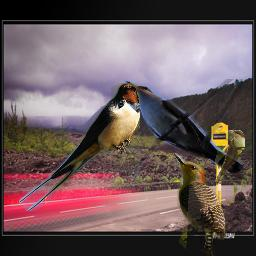Cuckoo: (123, 79, 243, 173), (215, 130, 245, 185)
Swallow: (19, 83, 140, 211)
Woodpecker: (173, 153, 226, 256)
